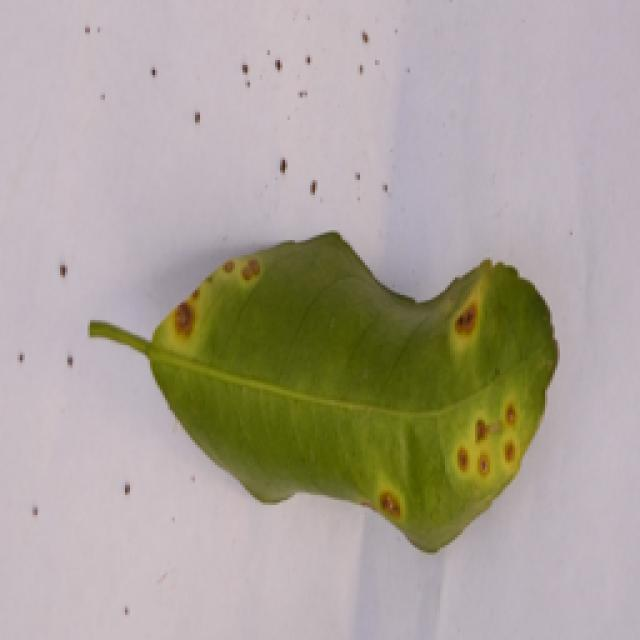canker: (169, 260, 557, 544)
